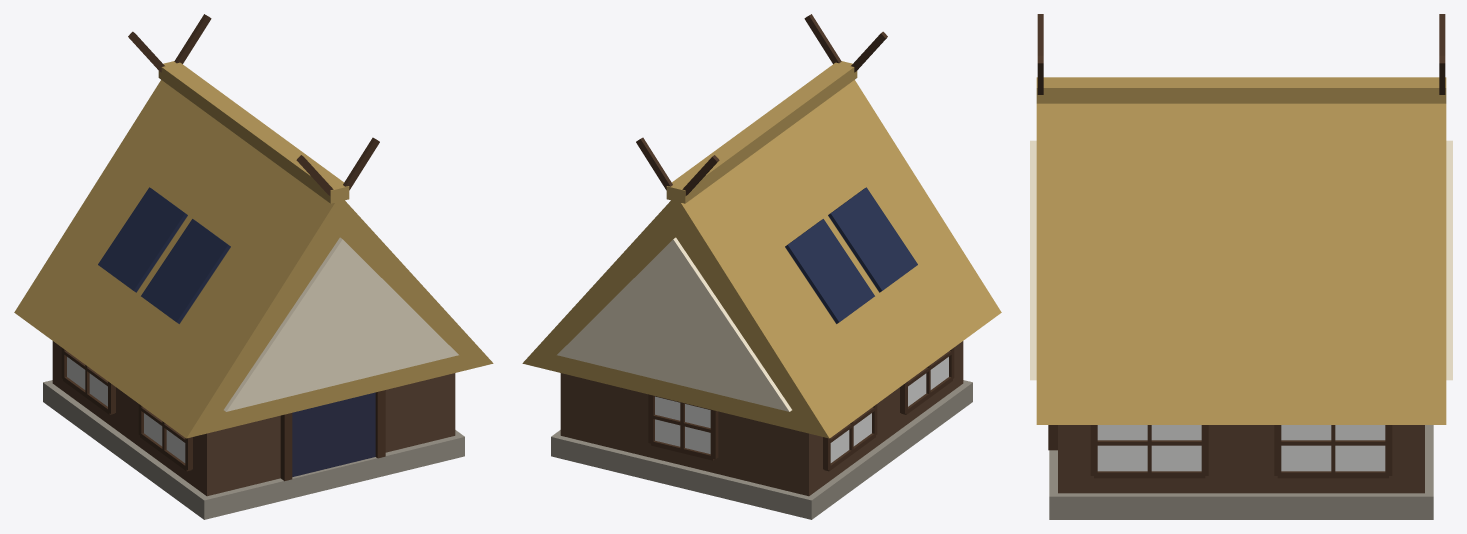
The model's file is house-1x1-1f-gassho-a-solar.glb.
3 renders of one model, left to right at view 1: azimuth 30°, elevation 25°; view 2: azimuth 150°, elevation 25°; view 3: azimuth 270°, elevation 25°, orthographic. The views are drawn at different scales.
Visible parts, largest first — view 1: house-1x1-1f-gassho-a-solar; view 2: house-1x1-1f-gassho-a-solar; view 3: house-1x1-1f-gassho-a-solar.
Part boxes in pixels (left/top/right/bottom): house-1x1-1f-gassho-a-solar: left=14, top=14, right=493, bottom=519; house-1x1-1f-gassho-a-solar: left=522, top=14, right=1001, bottom=519; house-1x1-1f-gassho-a-solar: left=1030, top=14, right=1452, bottom=519.
Size of the model in its own units: 0.99 by 1.06 by 0.99.
1 material, 1 textured.
